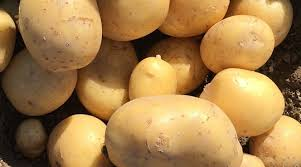potato: (111, 93, 229, 167), (15, 0, 102, 77), (205, 67, 293, 133), (200, 19, 277, 74), (50, 110, 119, 167), (92, 0, 173, 43)
